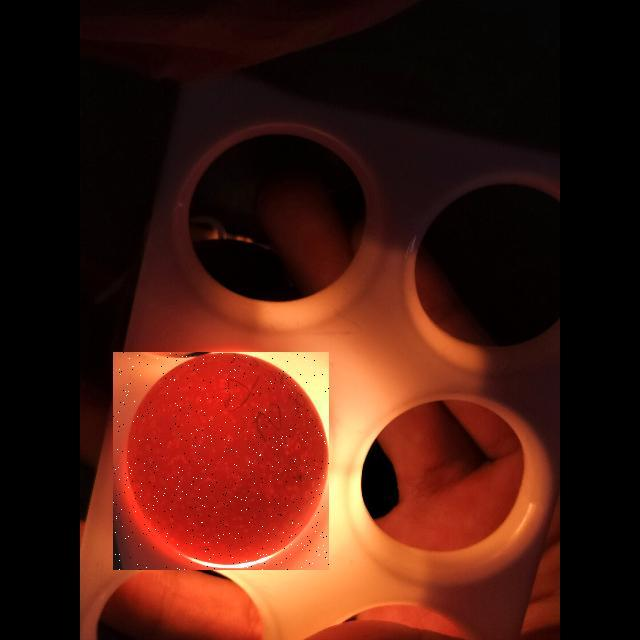Infertile: (113, 352, 329, 570)
